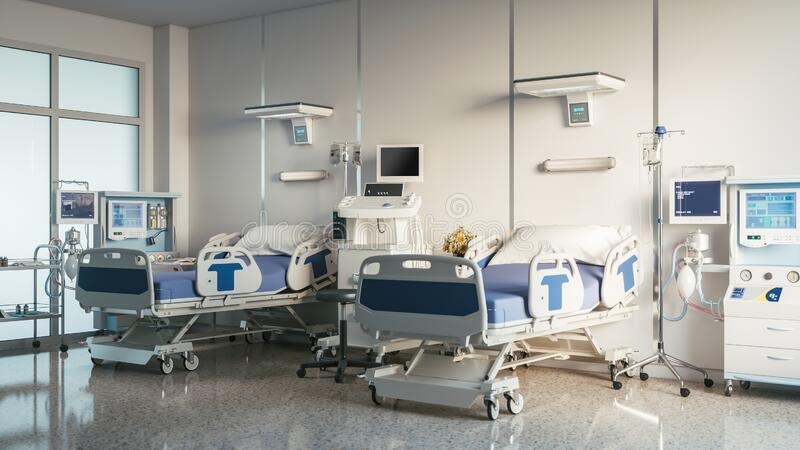bedrail: (526, 252, 585, 318), (194, 245, 263, 301), (600, 234, 643, 310), (284, 236, 338, 292), (459, 232, 505, 276), (200, 231, 245, 261)
bedside_monitor: (667, 176, 730, 227), (738, 186, 800, 236), (375, 144, 422, 185), (54, 188, 99, 227)
foot_board: (354, 253, 489, 343), (73, 246, 156, 317)
handle: (762, 325, 793, 335), (765, 355, 794, 364)
hospital_bed: (354, 220, 644, 420), (73, 222, 341, 374)
iv_pole: (635, 122, 690, 367), (327, 138, 364, 198)
medical_drawer: (720, 289, 800, 385)
utility_cart: (1, 243, 68, 356)
ventilator: (330, 194, 420, 379)
